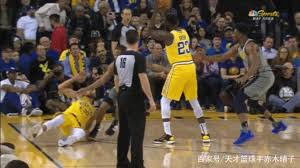10+: (1, 1, 300, 168)
down: (28, 88, 101, 149)
